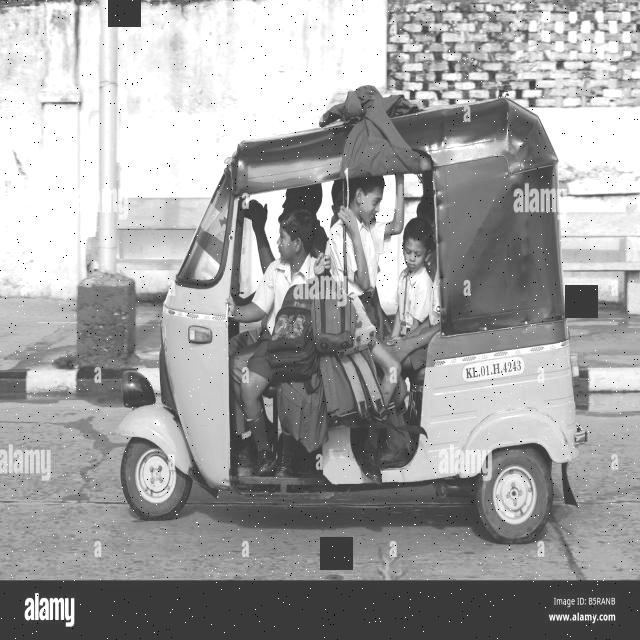Auto-Rickshaw: (108, 98, 594, 552)
